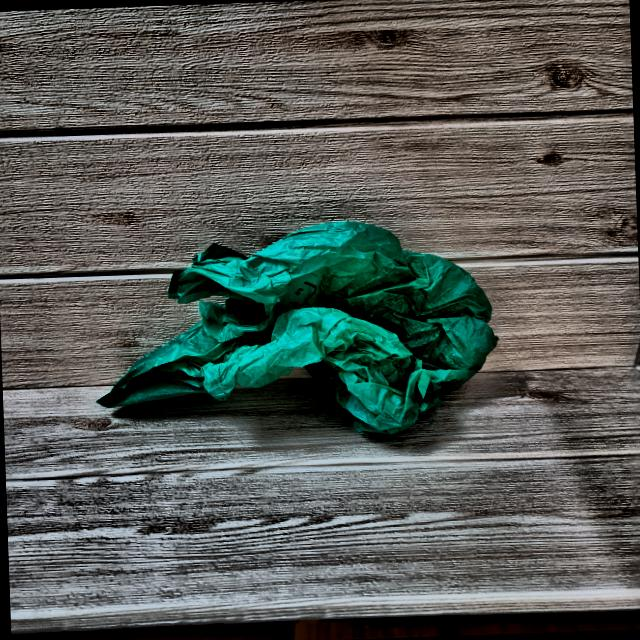plastic bag: (111, 213, 508, 442)
